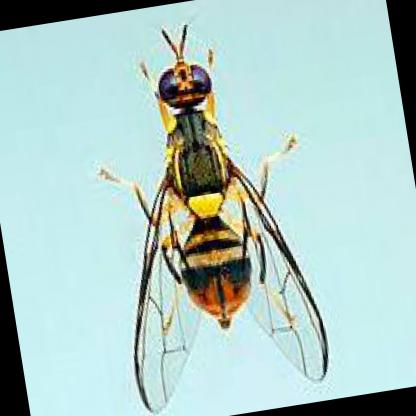fruit fly: (98, 25, 326, 413)
